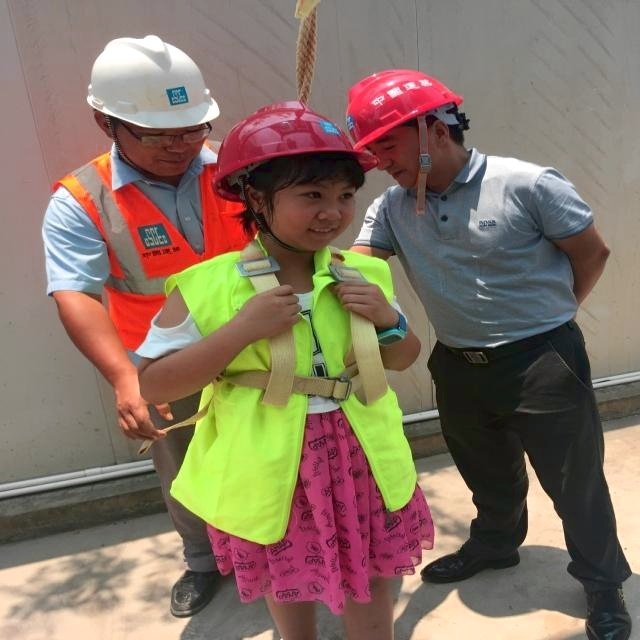Con_Casco: (85, 36, 215, 162), (348, 68, 466, 194)
